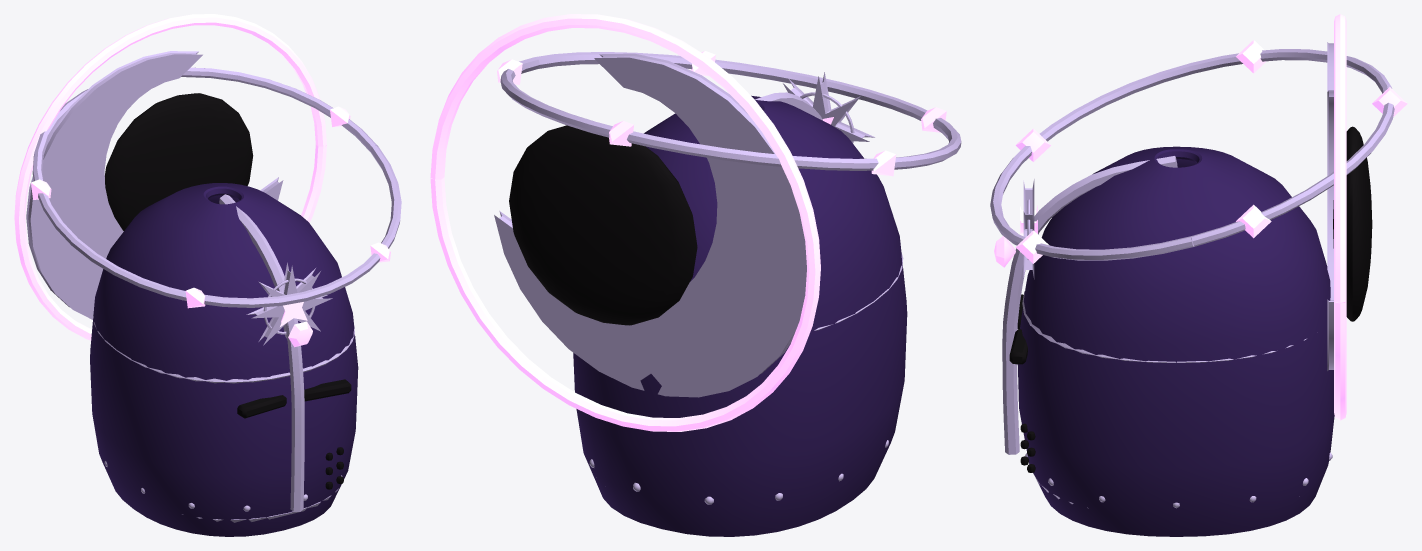
The model's file is asc_nebula_warlord_helm.glb.
3 views of the same model, side by side, from view 1: azimuth 30°, elevation 25°; view 2: azimuth 150°, elevation 25°; view 3: azimuth 270°, elevation 25° (orthographic). The views are drawn at different scales.
Visible parts, largest first — view 1: asc_nebula_warlord_helm; view 2: asc_nebula_warlord_helm; view 3: asc_nebula_warlord_helm.
Boxes of the visible parts, x1=… form: asc_nebula_warlord_helm: x1=14, y1=14, x2=401, y2=536; asc_nebula_warlord_helm: x1=430, y1=14, x2=961, y2=536; asc_nebula_warlord_helm: x1=990, y1=14, x2=1407, y2=536.
Size of the model in its own units: 0.5343 by 0.6269 by 0.5095.
